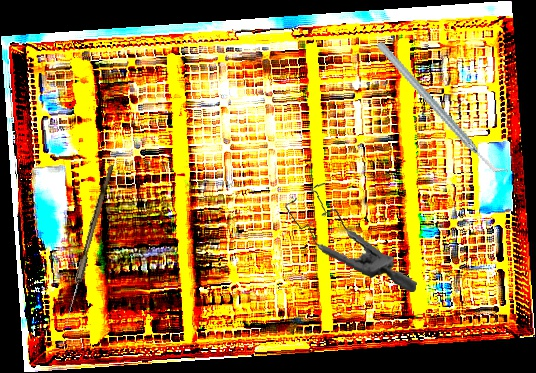Chopper: (375, 16, 509, 200)
Speculum: (276, 178, 428, 293)
Surgical Spoon: (63, 163, 114, 325)
